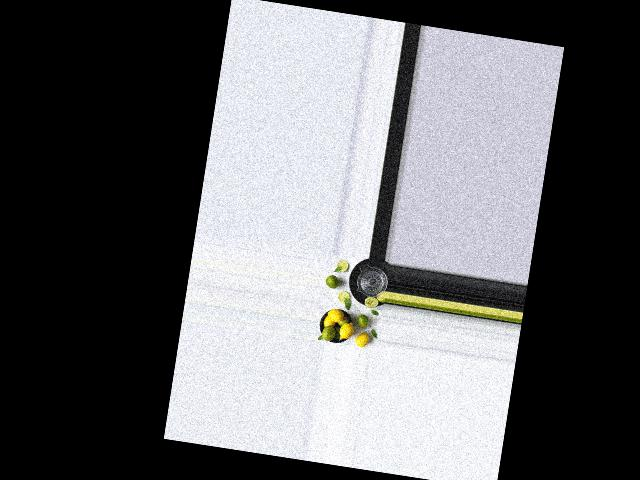lemon: (325, 273, 338, 289)
